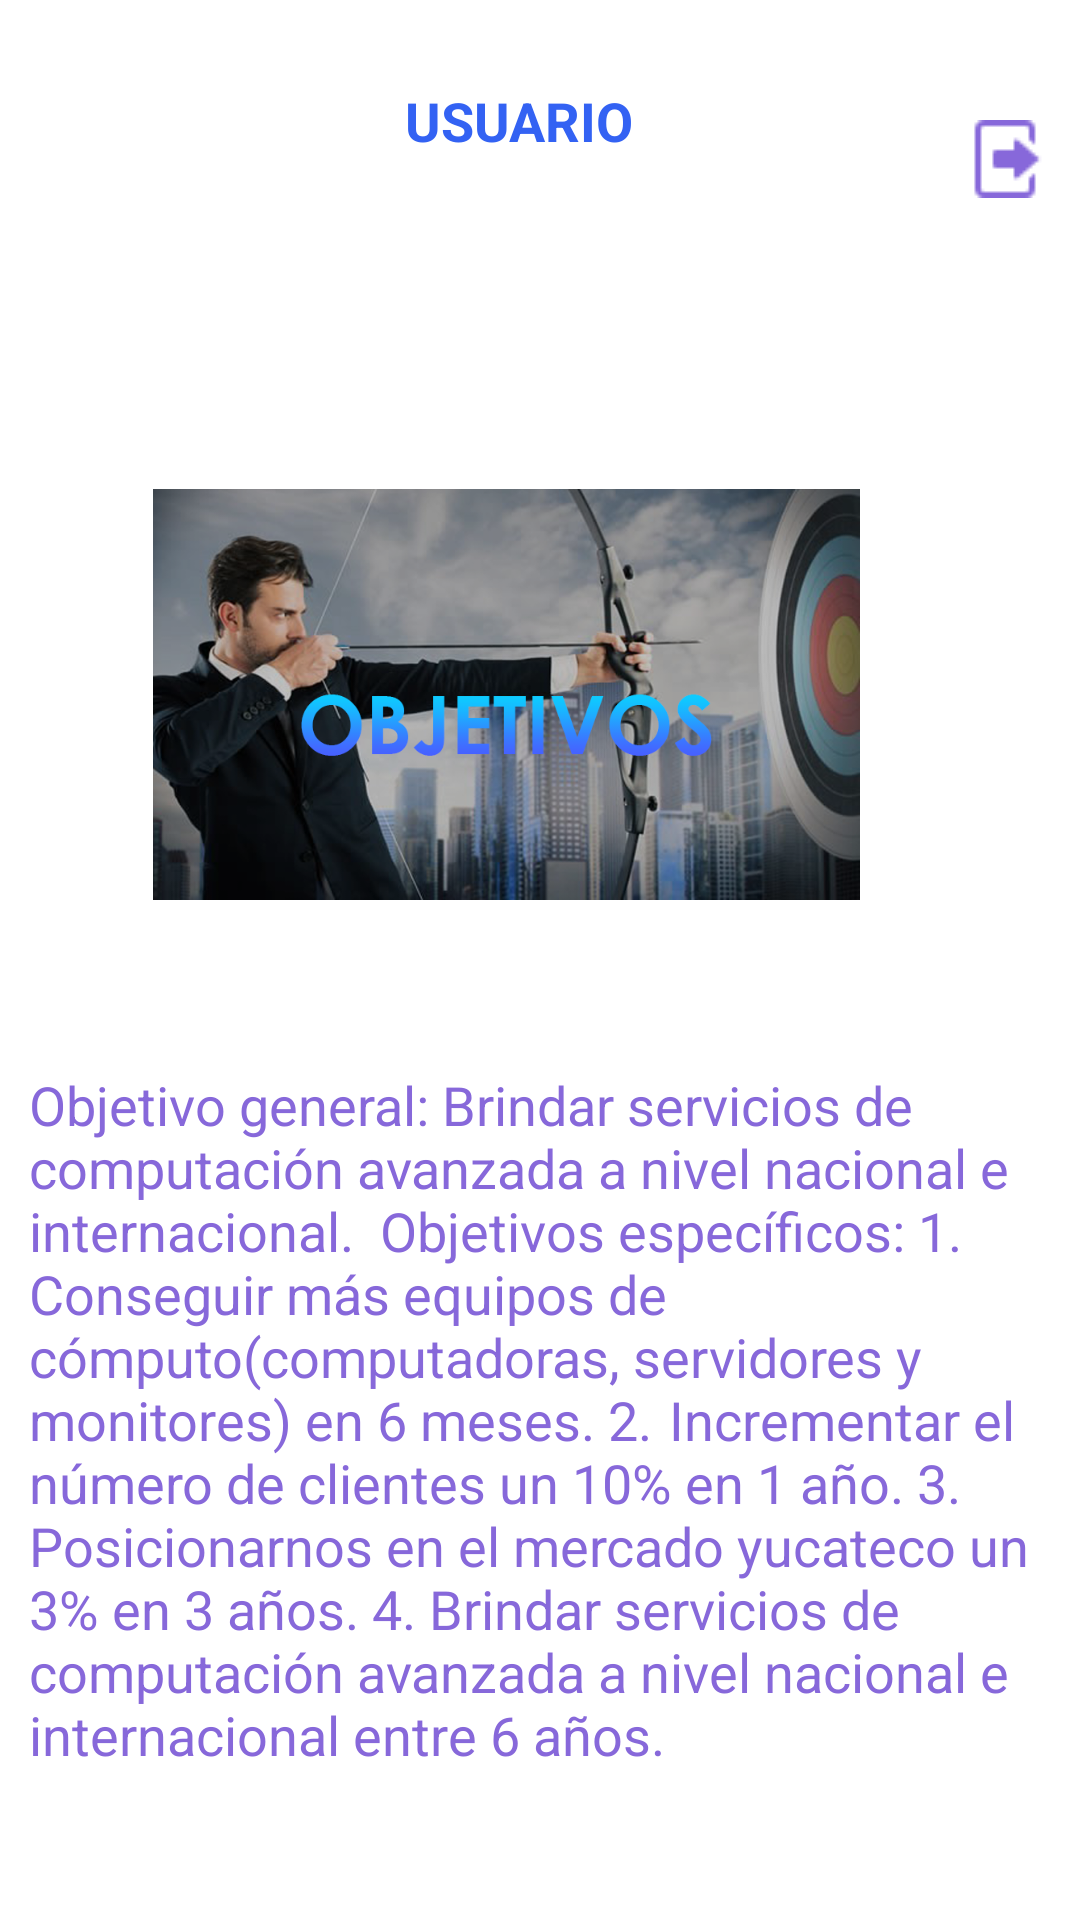

Icons on this 1080 x 1920 Android screen, each with its box as {"left": x1, "top": y1, "right": x2, "bottom": y2}:
exit: {"left": 974, "top": 120, "right": 1039, "bottom": 198}
